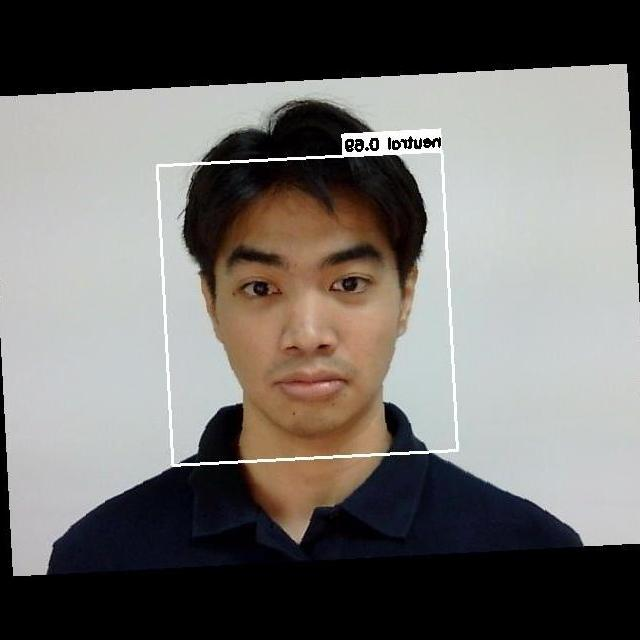Fear: (207, 211, 400, 418)
